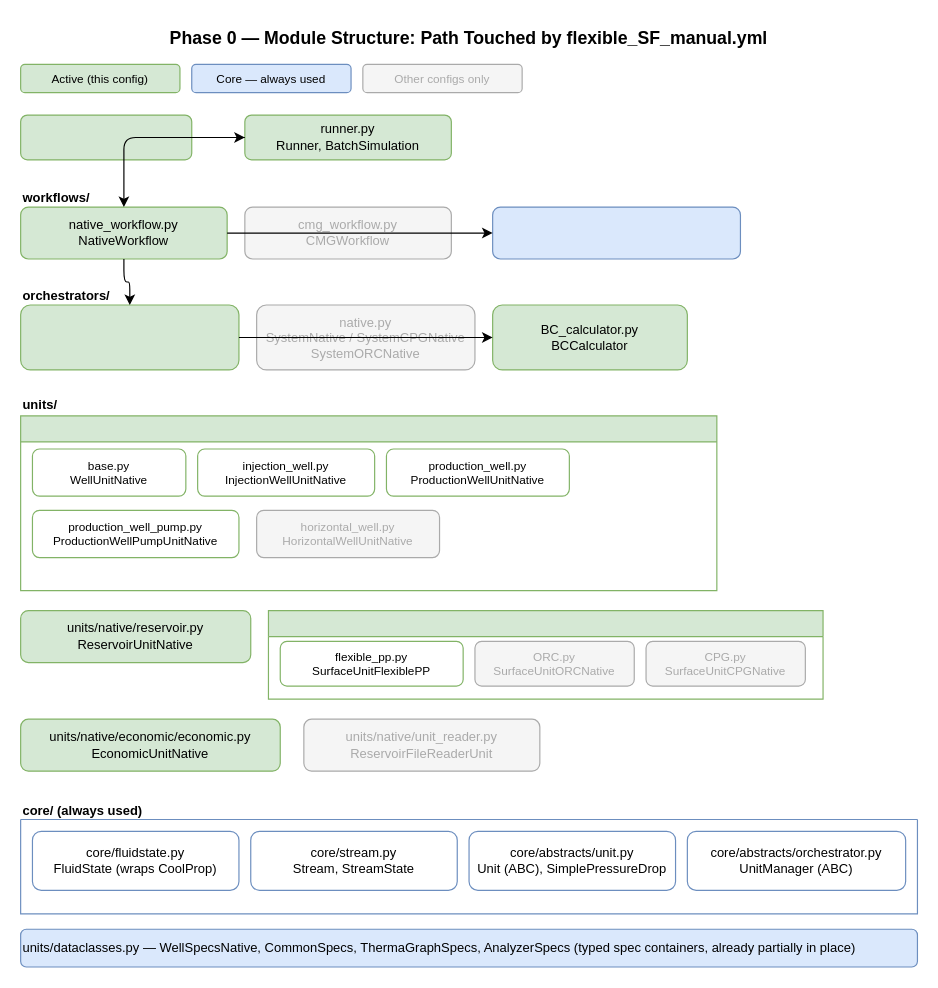
Image size: 938x988. Some labels were removed from this diagram. Here are the shapes that lost their labels. From the top down, the box of each, then its label:
(19, 114, 192, 160): tango_cli.py
(491, 206, 740, 259): registry.py UNIT_OPTIONS, SYSTEM_OPTIONS
(19, 304, 239, 370): external.py SystemExternal bc_iteration present → external path
(19, 415, 717, 591): units/native/well/
(267, 609, 823, 699): units/native/surface/
